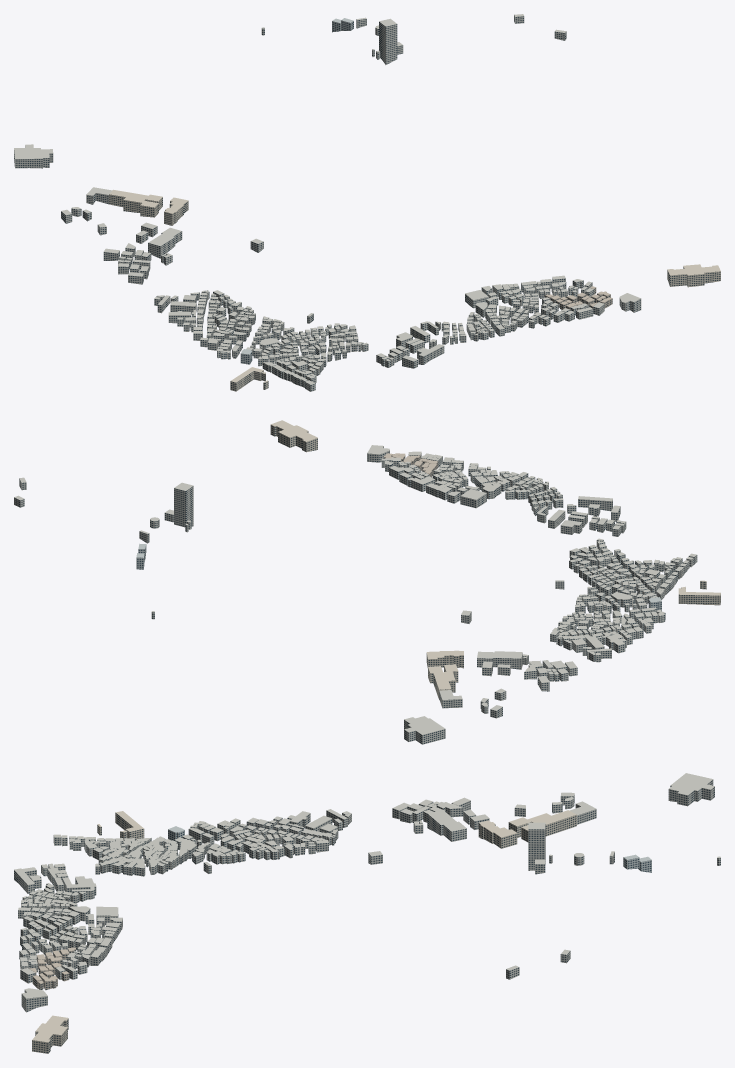
File: city_-3_-1.glb
3 views of the same model, one above another, from view 1: azimuth 30°, elevation 25°; view 2: azimuth 150°, elevation 25°; view 3: azimuth 270°, elevation 25° (orthographic). The views are drawn at different scales.
Bounding box in the file's own units: 910 × 276 × 942.
4 materials, 4 textured.
